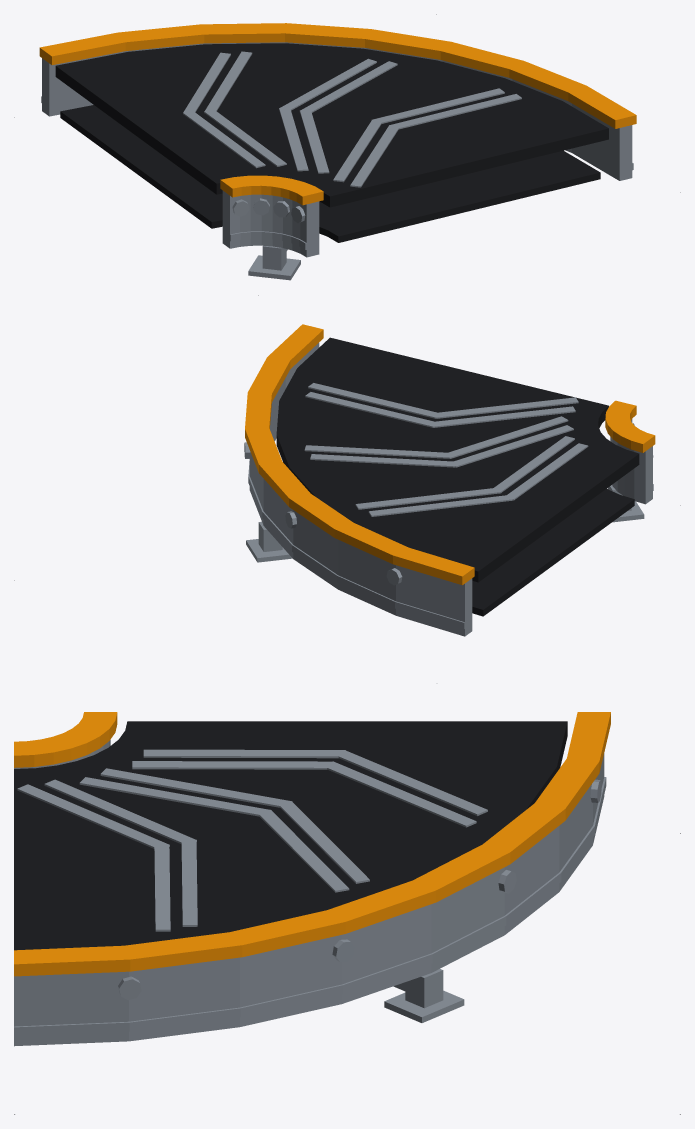
File: convoyeur_virage_inverse_t2.glb
The picture shows the model from 3 angles, top to bottom: view 1: azimuth 30°, elevation 25°; view 2: azimuth 150°, elevation 25°; view 3: azimuth 270°, elevation 25°; orthographic projection. The views are drawn at different scales.
Parts seen in each view (by area): view 1: bande_porteuse.024, bande_retour.024, rive_1.024, bande_acier.042, longeron_1.024, longeron_-1.024, pieces_acier.048, rive_-1.024, nervure_-1.012; view 2: bande_porteuse.024, bande_acier.042, longeron_1.024, rive_1.024, bande_retour.024, nervure_1.012, pieces_acier.048, rive_-1.024, longeron_-1.024; view 3: bande_porteuse.024, longeron_1.024, rive_1.024, bande_acier.042, nervure_1.012, pieces_acier.048, rive_-1.024.
Boxes of the visible parts, x1,y1,x2,y2 form: bande_porteuse.024: [55, 43, 608, 207]; bande_retour.024: [60, 105, 600, 242]; rive_1.024: [39, 23, 636, 128]; bande_acier.042: [183, 51, 521, 187]; longeron_1.024: [42, 42, 632, 180]; longeron_-1.024: [222, 190, 319, 257]; pieces_acier.048: [232, 198, 305, 280]; rive_-1.024: [220, 175, 323, 205]; nervure_-1.012: [230, 231, 307, 249]; bande_porteuse.024: [276, 337, 639, 582]; bande_acier.042: [304, 383, 588, 516]; longeron_1.024: [249, 342, 472, 636]; rive_1.024: [245, 324, 474, 585]; bande_retour.024: [472, 488, 634, 616]; nervure_1.012: [248, 461, 465, 629]; pieces_acier.048: [244, 423, 653, 585]; rive_-1.024: [605, 400, 655, 452]; longeron_-1.024: [610, 419, 652, 504]; bande_porteuse.024: [14, 721, 567, 950]; longeron_1.024: [14, 753, 604, 1046]; rive_1.024: [14, 712, 610, 976]; bande_acier.042: [17, 749, 487, 931]; nervure_1.012: [14, 777, 606, 1036]; pieces_acier.048: [118, 779, 601, 1022]; rive_-1.024: [14, 712, 117, 767].
Bounding box in the file's own units: 1 × 0.2 × 1.
